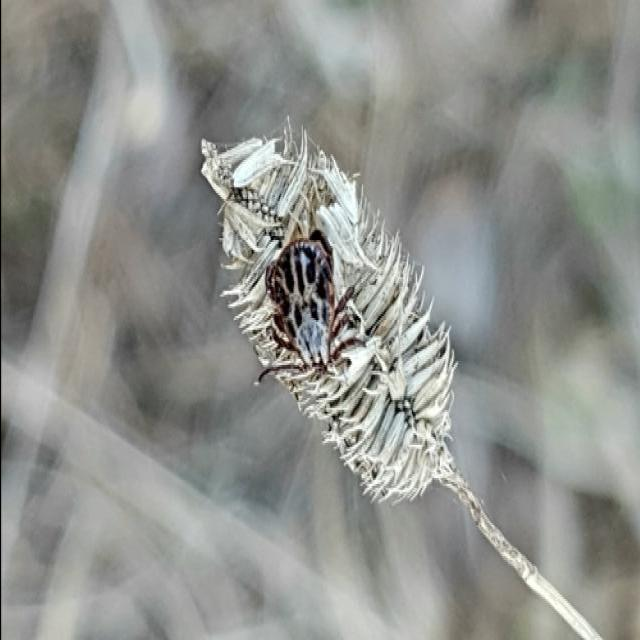Dermacentor Reticulatus-M: (262, 232, 360, 369)
